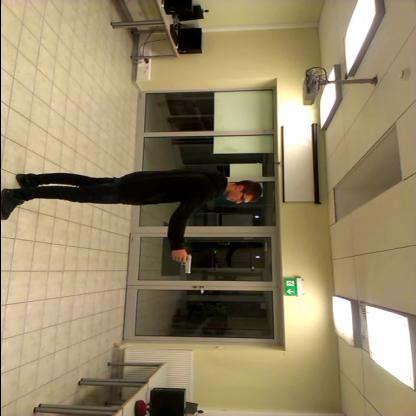Pistol: (172, 248, 196, 278)
